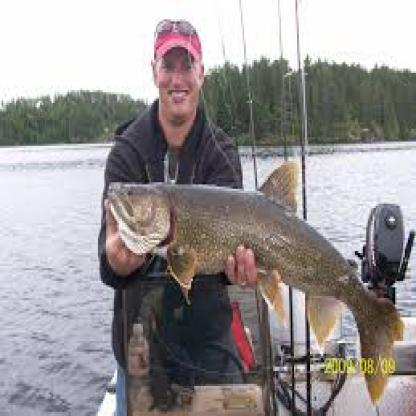fish: (103, 156, 405, 402)
